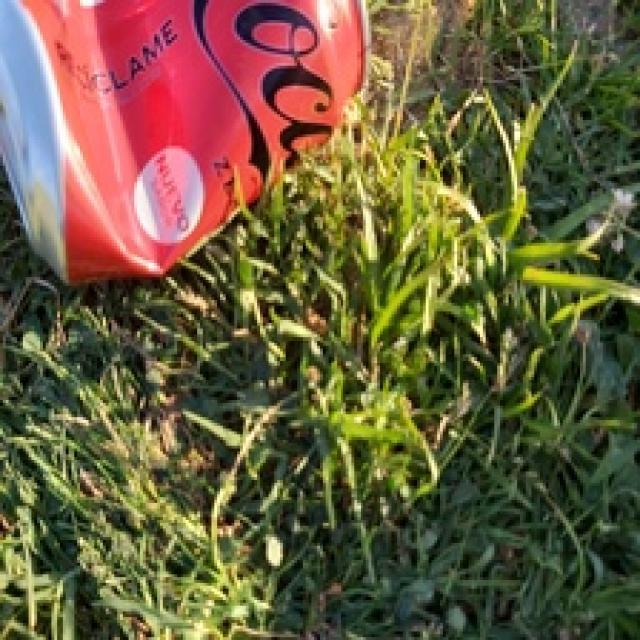recyclable: (0, 0, 371, 280)
